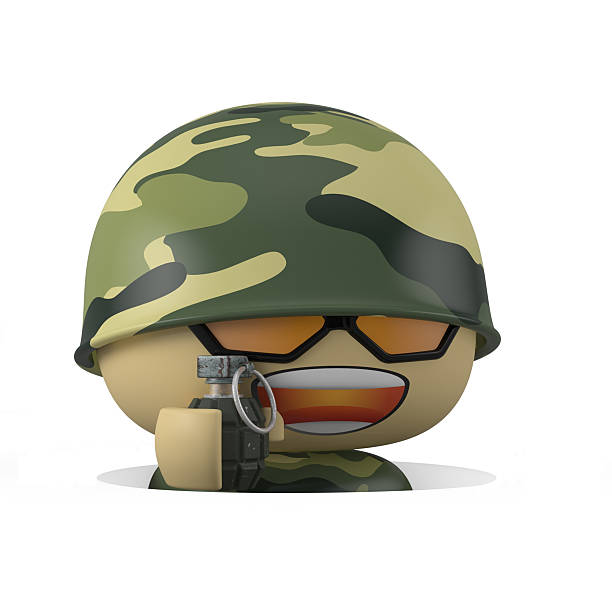e1: (189, 353, 279, 489)
